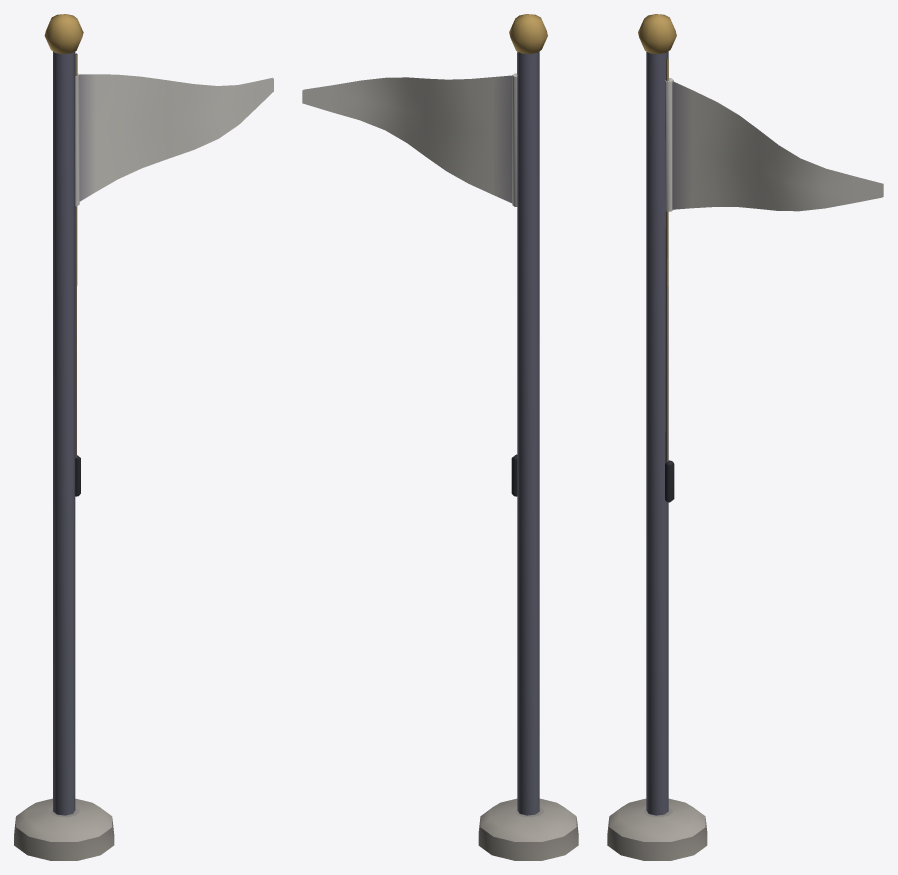
The model's file is CheckpointFlag.fbx.
3 views of the same model, side by side, from view 1: azimuth 30°, elevation 25°; view 2: azimuth 150°, elevation 25°; view 3: azimuth 330°, elevation 25° (orthographic).
Visible parts, largest first — view 1: CheckpointFlag, Flag; view 2: CheckpointFlag, Flag; view 3: CheckpointFlag, Flag.
Part boxes in pixels (left/top/right/bottom): CheckpointFlag: left=14, top=14, right=114, bottom=860; Flag: left=75, top=73, right=273, bottom=206; CheckpointFlag: left=478, top=14, right=578, bottom=860; Flag: left=302, top=73, right=517, bottom=206; CheckpointFlag: left=607, top=14, right=707, bottom=860; Flag: left=665, top=78, right=883, bottom=211.
Bounding box in the file's own units: 0.7556 × 2.29 × 0.2511.
